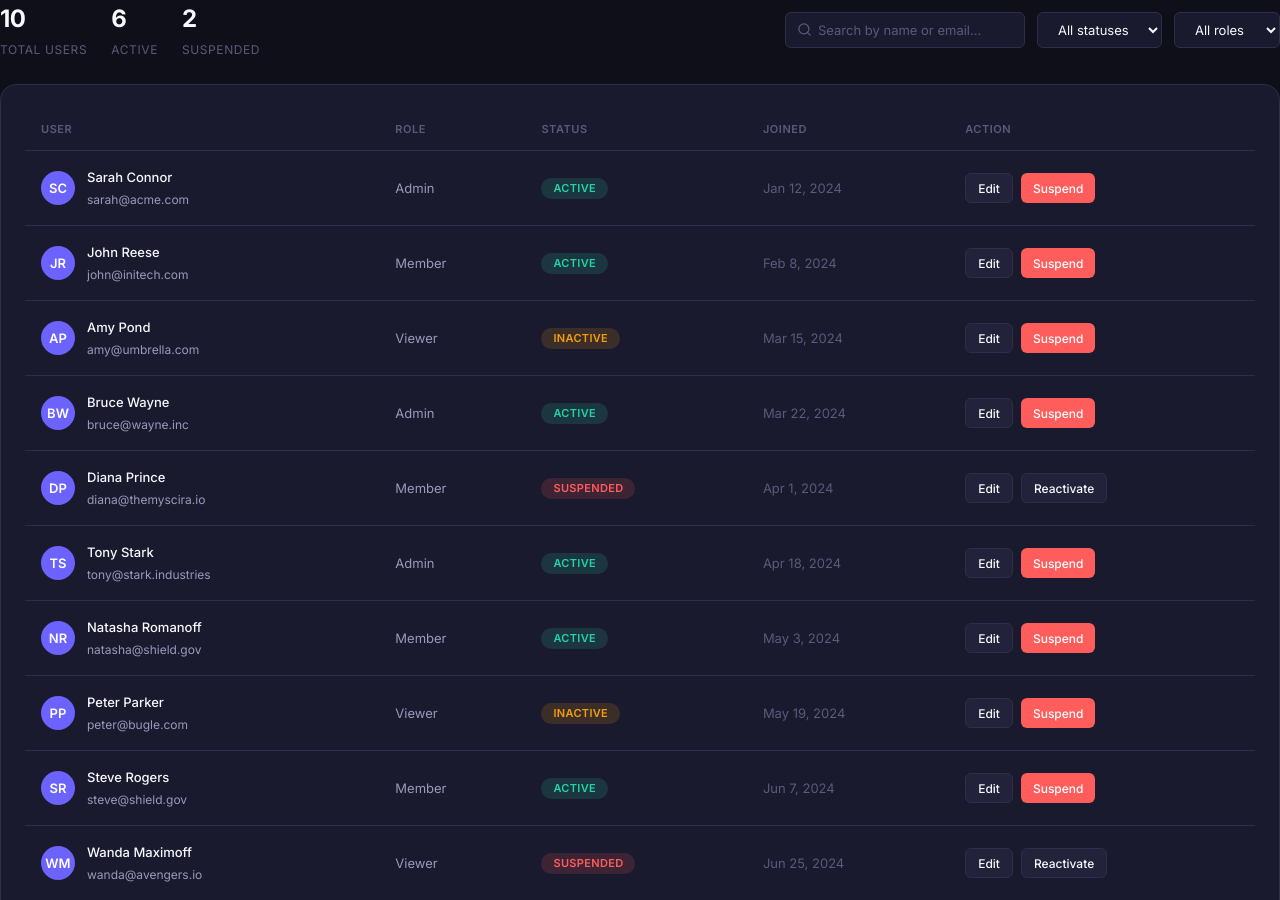
editing a user › saves changes to the list and closes
Expected: the text "Sarah Connor" is shown, [87, 169, 172, 185]
Click the button "Edit" in the row of "Sarah Connor": (989, 188) [965, 173, 1013, 203]
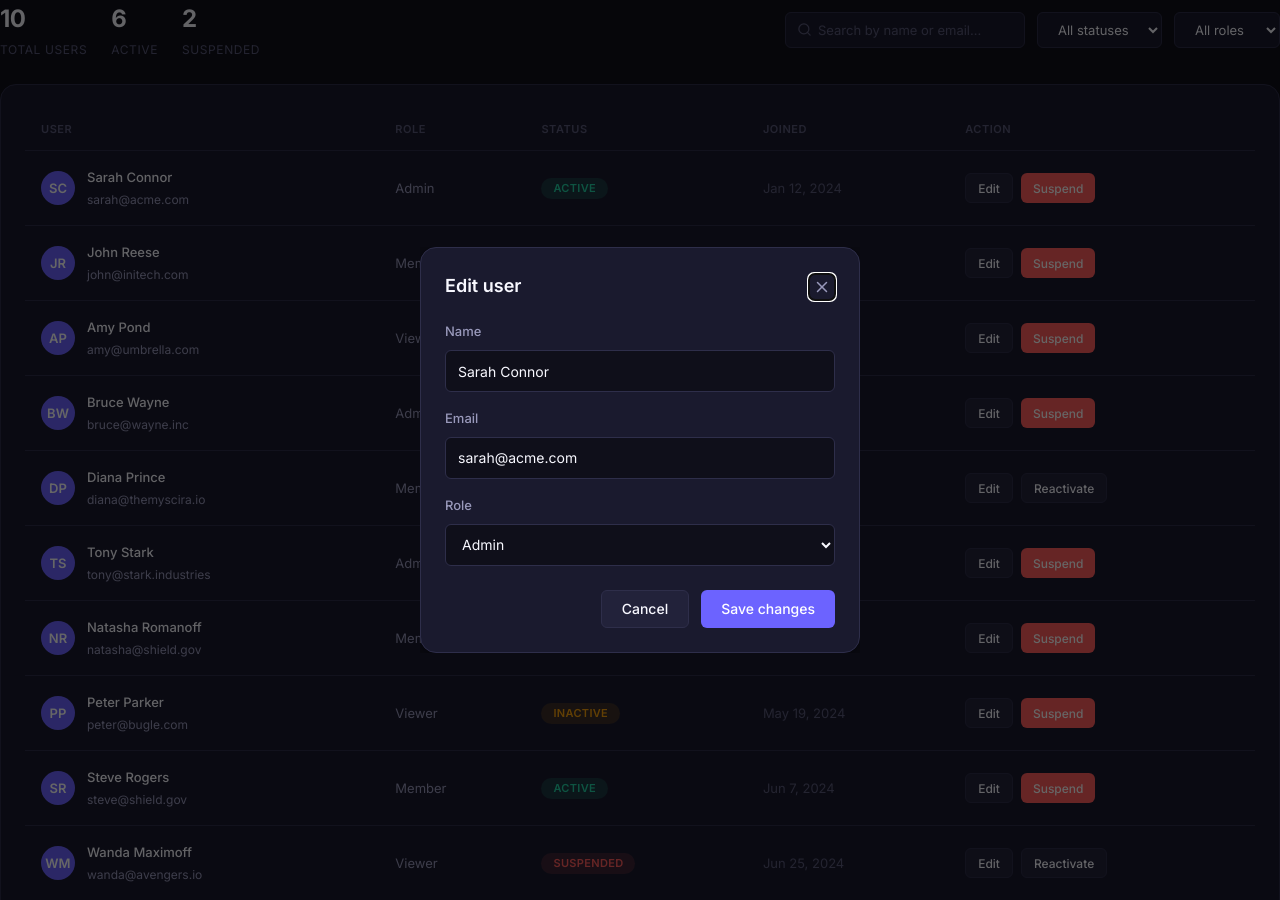
Replace the text in the field labelled "Name" with "Sarah J. Connor": (640, 371) [445, 350, 835, 392]
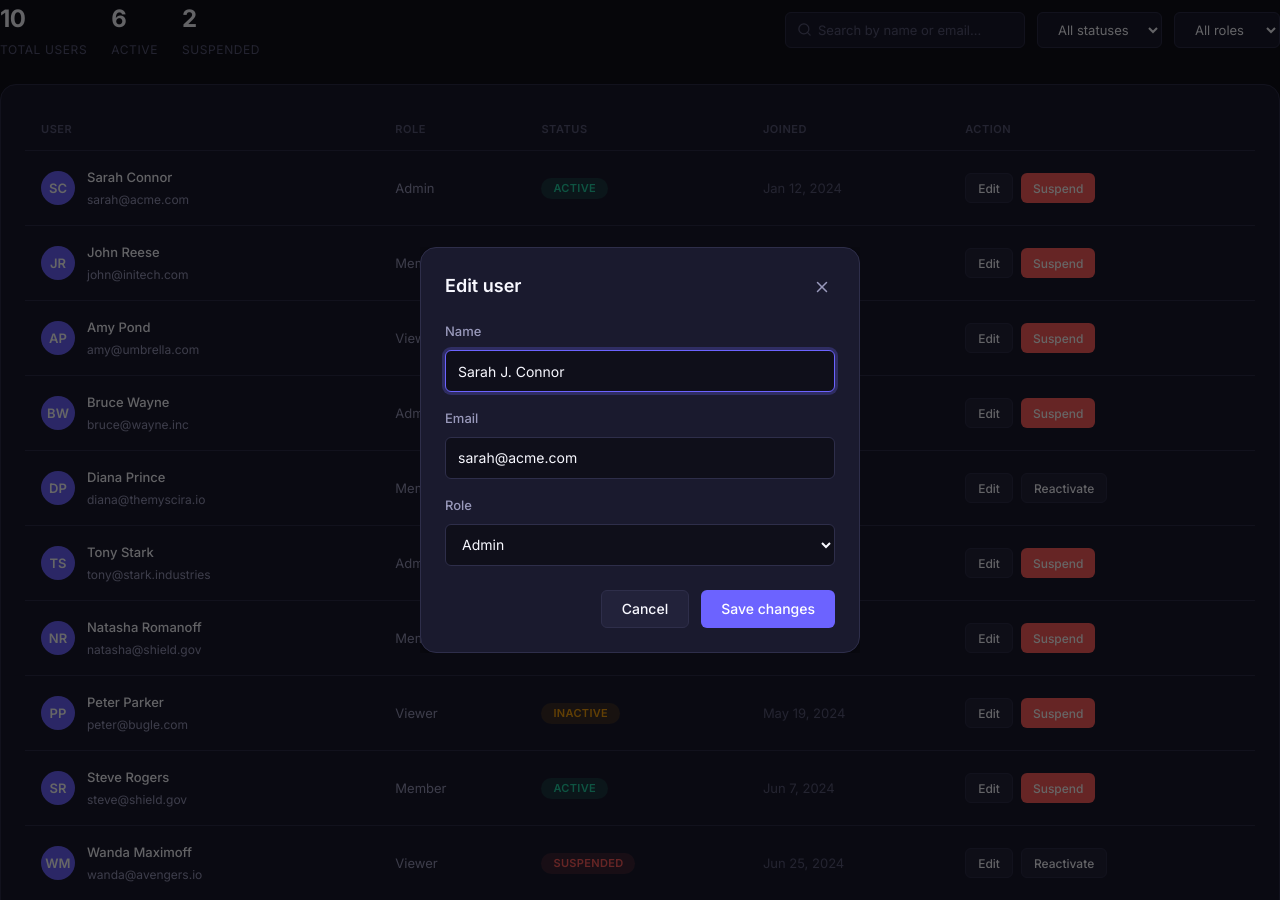
Select "Viewer" in the dropdown labelled "Role": (640, 545) [445, 524, 835, 566]
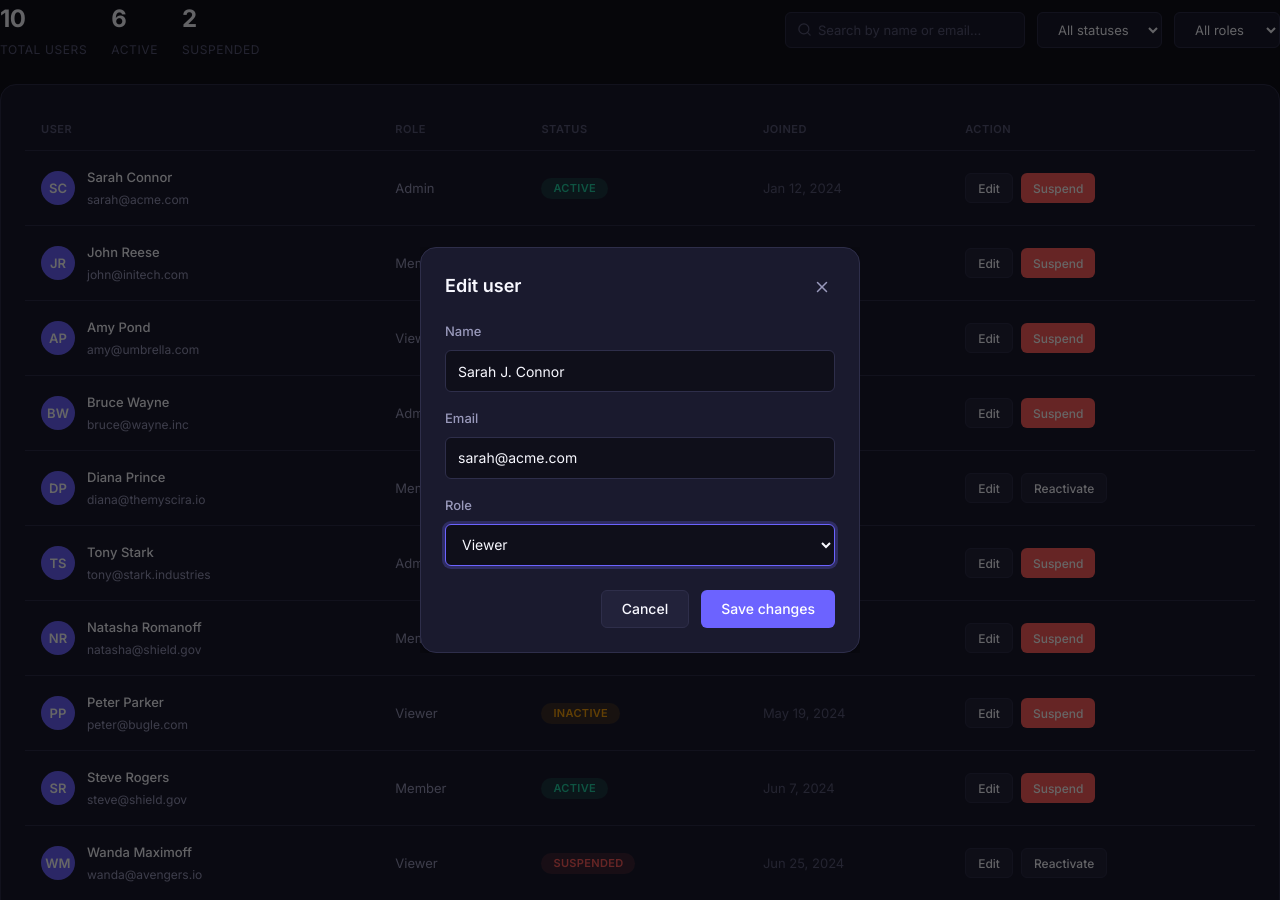
Click the button "Save changes": (768, 609) [701, 590, 835, 628]
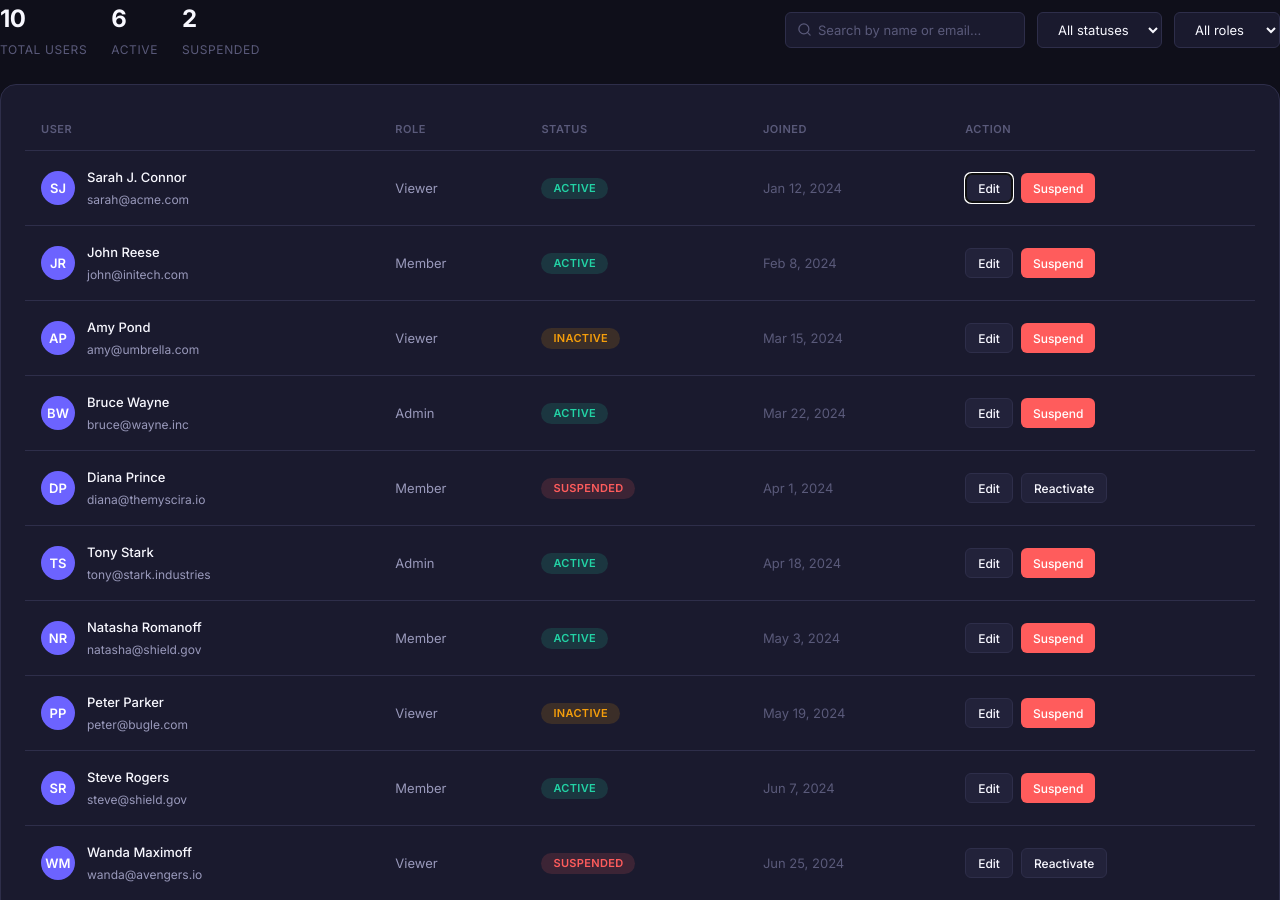
Expected: the text "Sarah J. Connor" is shown, [87, 167, 189, 188]
Expected: the dialog is gone
Expected: the text "Sarah J. Connor" shows "Viewer", [395, 180, 438, 196]
